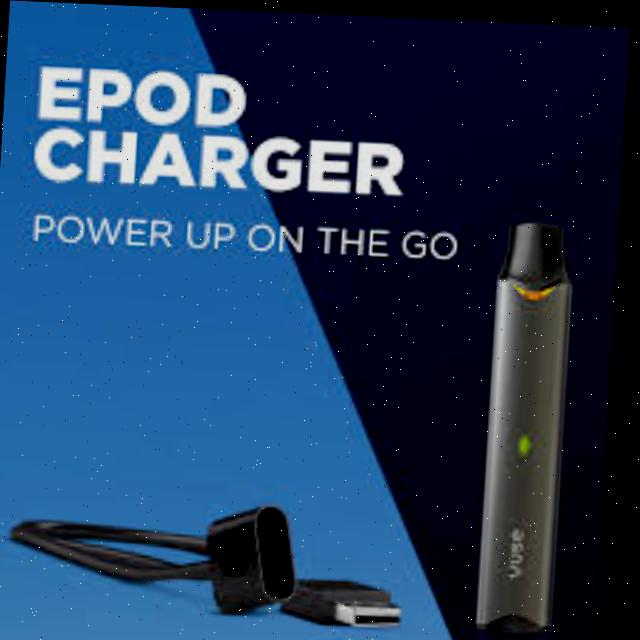vape: (484, 210, 583, 632)
